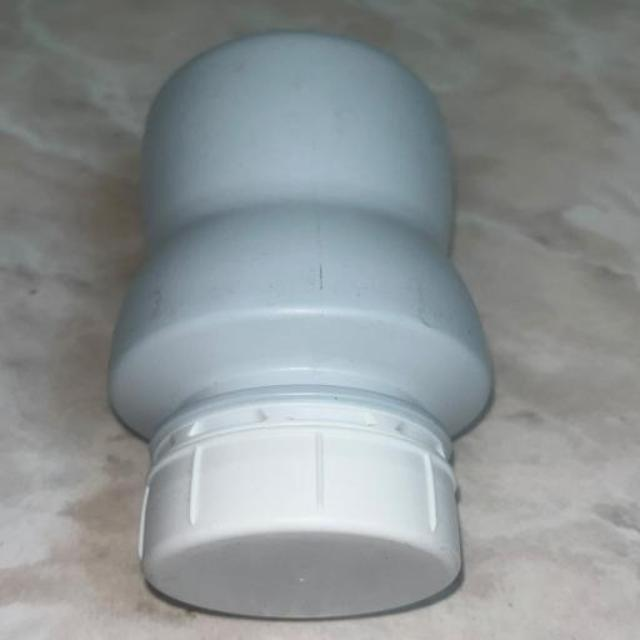HDPE: (19, 9, 591, 574)
